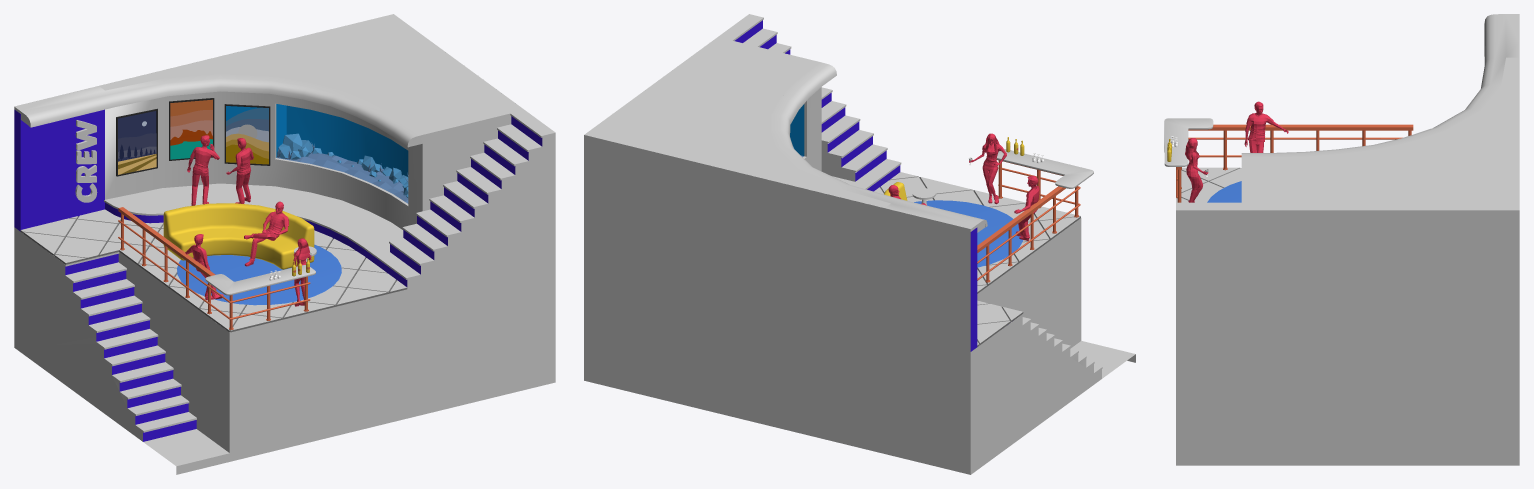
Rendered from floor02.glb.
The picture shows the model from 3 angles, left to right: view 1: azimuth 30°, elevation 25°; view 2: azimuth 150°, elevation 25°; view 3: azimuth 270°, elevation 25°; orthographic projection. The views are drawn at different scales.
Visible parts, largest first — view 1: floor02_main, ground01, wall01, platform, seat, stairs02, stairs01, stair_facet02, aquariaum_background, Cylinder030, statues, stair_facet01 (+8 smaller); view 2: floor02_main, ground01, stairs01, fences, Cylinder030, stair_facet01, statues, fences_bar, wall01, ground02, aquariaum_background; view 3: floor02_main, fences, statues, fences_bar, ground01, stairs01, Cylinder030.
Part boxes in pixels (x1,y1,x2,y2): floor02_main: (14, 14, 555, 474); ground01: (21, 209, 406, 330); wall01: (14, 109, 104, 231); platform: (104, 183, 403, 256); seat: (163, 203, 314, 269); stairs02: (65, 252, 196, 432); stairs01: (375, 110, 555, 279); stair_facet02: (65, 254, 196, 441); aquariaum_background: (276, 104, 408, 176); Cylinder030: (177, 244, 341, 305); statues: (185, 135, 311, 306); stair_facet01: (376, 116, 542, 286); floor02_main: (584, 37, 1135, 474); ground01: (874, 172, 1080, 345); stairs01: (718, 14, 901, 186); fences: (977, 159, 1080, 282); Cylinder030: (914, 200, 1023, 267); stair_facet01: (735, 20, 900, 191); statues: (888, 133, 1039, 240); fences_bar: (996, 149, 1093, 188); wall01: (970, 227, 977, 351); ground02: (880, 176, 1080, 346); aquariaum_background: (790, 104, 804, 155); floor02_main: (1176, 14, 1519, 465); fences: (1176, 124, 1413, 202); statues: (1185, 101, 1288, 202); fences_bar: (1164, 118, 1213, 166); ground01: (1176, 167, 1241, 202); stairs01: (1176, 202, 1241, 210); Cylinder030: (1207, 181, 1241, 202).
Bounding box in the file's own units: 11.47 × 7.21 × 8.77.
